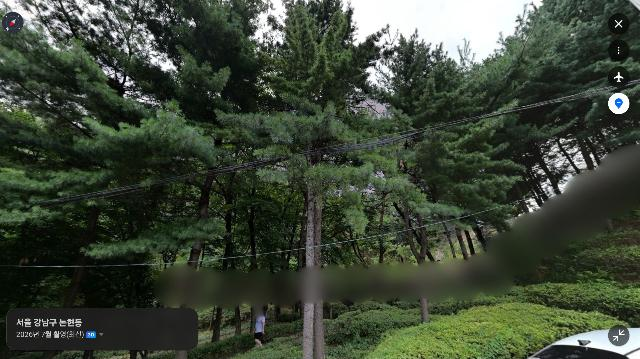other: (210, 0, 436, 359), (0, 18, 233, 308), (74, 0, 265, 345), (354, 23, 545, 326), (448, 0, 640, 260), (265, 0, 353, 359)
